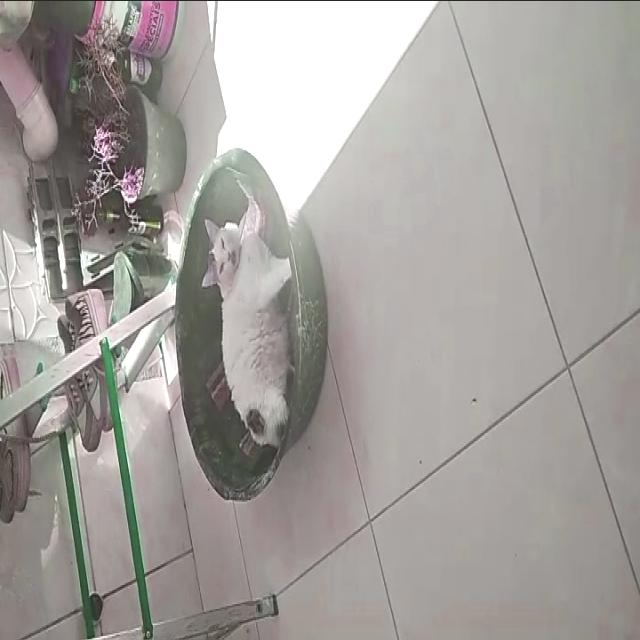Simba: (196, 184, 294, 448)
